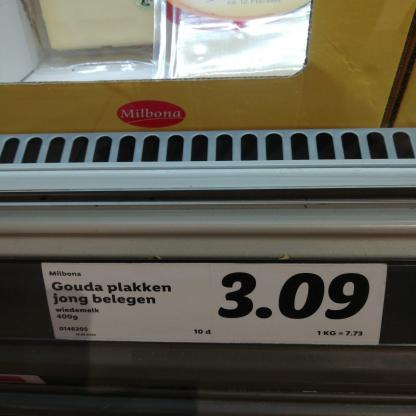prtg: (42, 264, 388, 347)
